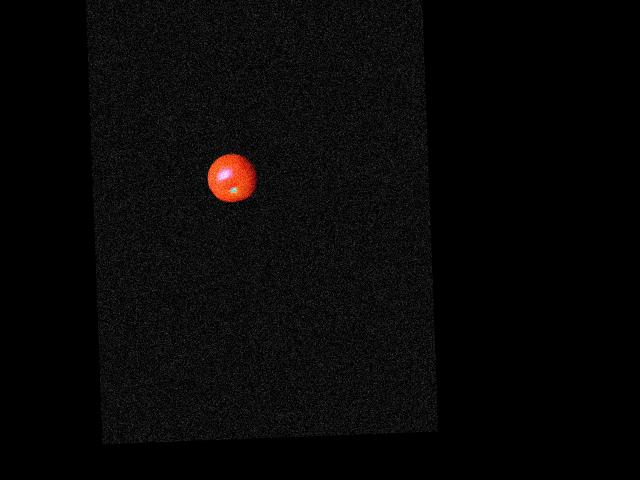tomato: (206, 152, 258, 202)
